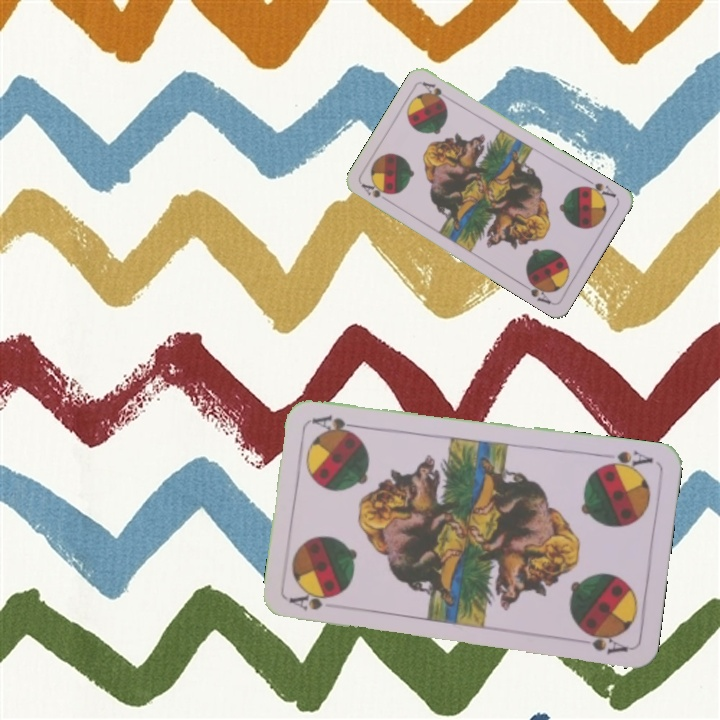SA: (596, 446, 656, 474), (286, 590, 336, 613), (579, 175, 619, 203), (358, 179, 395, 206)
